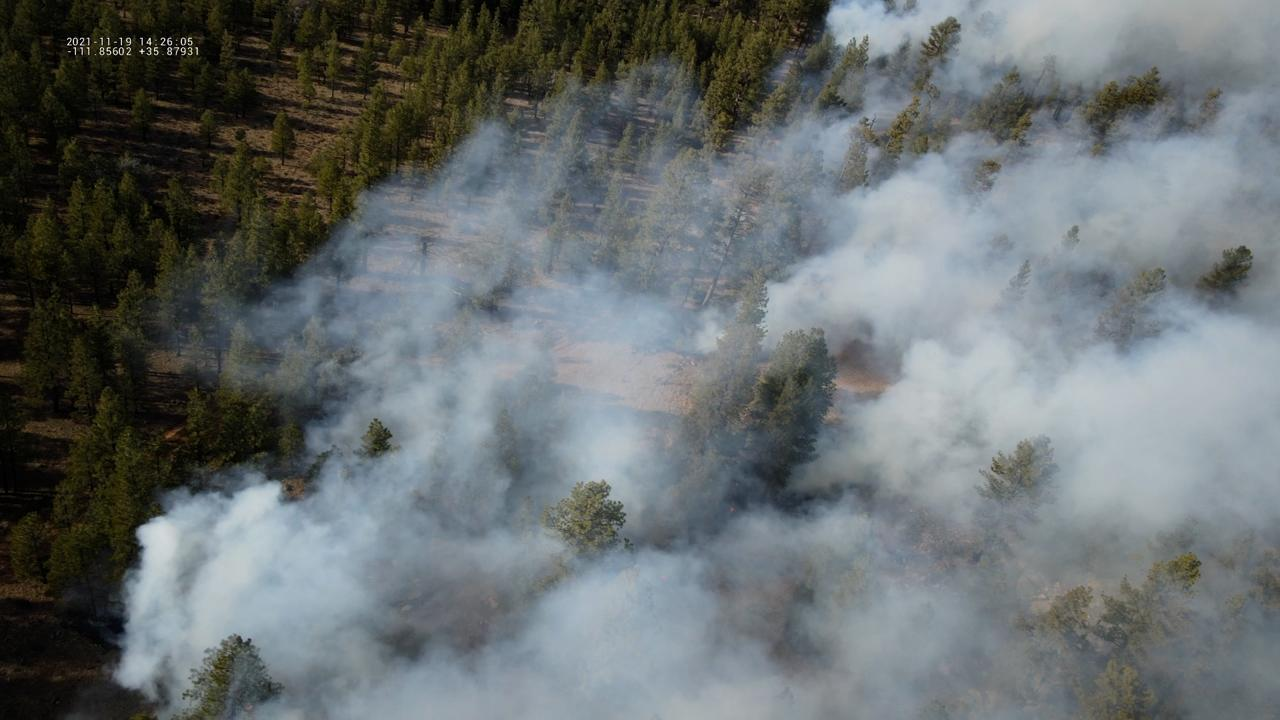smoke: (100, 0, 1280, 720)
